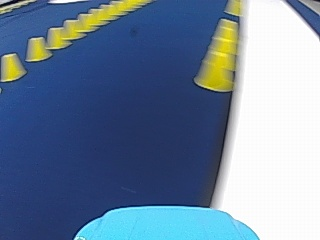cone: (194, 20, 237, 90), (1, 52, 26, 81), (25, 36, 50, 61), (46, 27, 64, 49), (61, 19, 80, 39), (225, 0, 238, 15)
